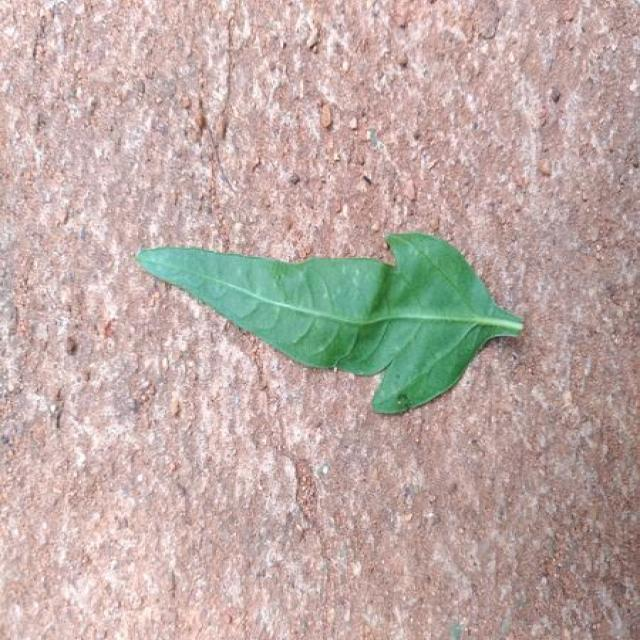balloon_Vine: (137, 232, 523, 413)
